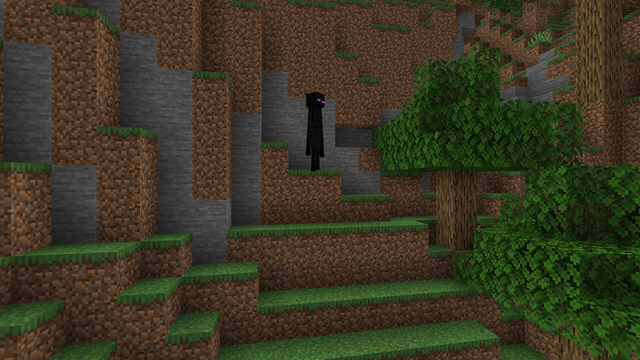endermens: (306, 89, 324, 170)
